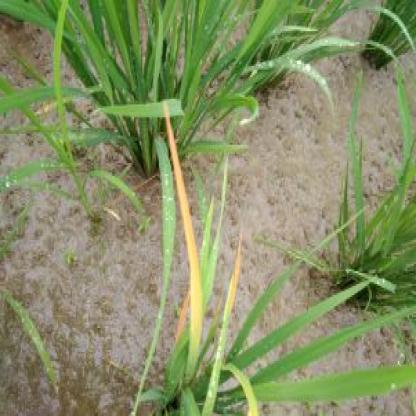Tungro: (165, 108, 208, 360)
